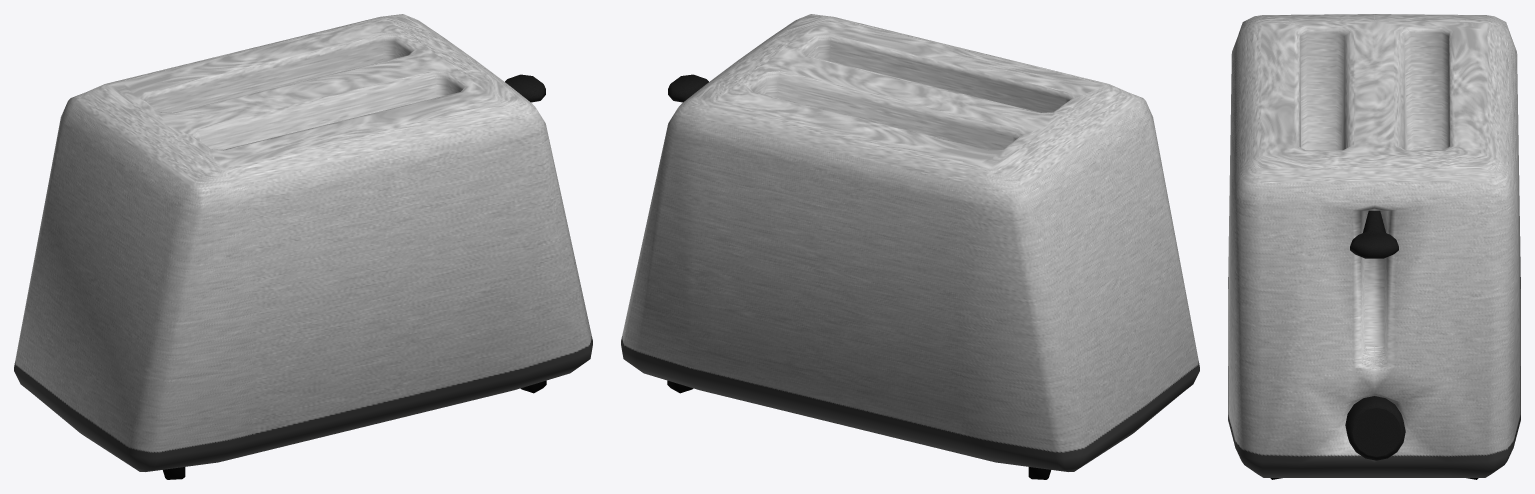
The model's file is toaster.glb.
The picture shows the model from 3 angles, left to right: view 1: azimuth 30°, elevation 25°; view 2: azimuth 150°, elevation 25°; view 3: azimuth 270°, elevation 25°; orthographic projection.
Visible parts, largest first — view 1: toaster, lowrelow; view 2: toaster, lowrelow; view 3: toaster, tourlow, lowrelow.
Part boxes in pixels (left/top/right/bottom): toaster: left=14, top=14, right=592, bottom=471; lowrelow: left=505, top=74, right=545, bottom=102; toaster: left=621, top=14, right=1199, bottom=471; lowrelow: left=668, top=74, right=708, bottom=102; toaster: left=1228, top=14, right=1520, bottom=477; tourlow: left=1345, top=396, right=1405, bottom=460; lowrelow: left=1350, top=210, right=1398, bottom=258.
Bounding box in the file's own units: 2.57 × 1.51 × 1.33.
Materials: 1 (1 with a texture image).
